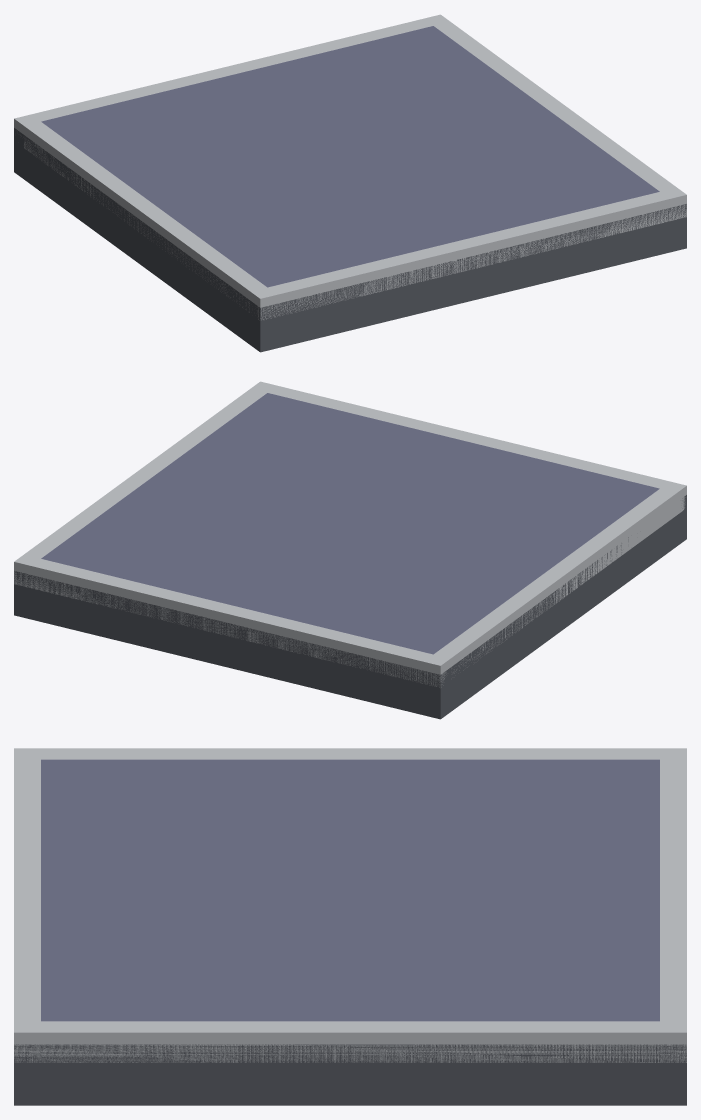
The model's file is SM_Floor_Bridge_Carpet.glb.
3 views of the same model, one above another, from view 1: azimuth 30°, elevation 25°; view 2: azimuth 150°, elevation 25°; view 3: azimuth 270°, elevation 25° (orthographic). The views are drawn at different scales.
Parts seen in each view (by area): view 1: SM_Floor_Bridge_Carpet; view 2: SM_Floor_Bridge_Carpet; view 3: SM_Floor_Bridge_Carpet.
Part boxes in pixels (x1,y1,x2,y2): SM_Floor_Bridge_Carpet: (14, 14, 686, 352); SM_Floor_Bridge_Carpet: (14, 381, 686, 719); SM_Floor_Bridge_Carpet: (14, 748, 686, 1105).
Bounding box in the file's own units: 2 × 0.24 × 2.
